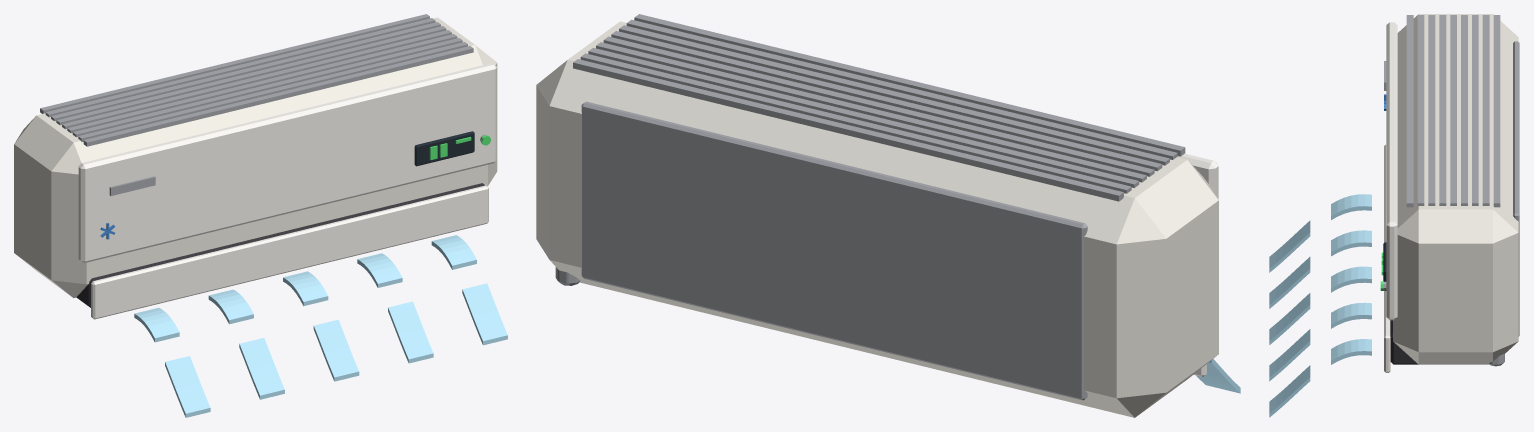
Rendered from AirConditionerModel.fbx.
3 views of the same model, side by side, from view 1: azimuth 30°, elevation 25°; view 2: azimuth 150°, elevation 25°; view 3: azimuth 270°, elevation 25° (orthographic). The views are drawn at different scales.
Visible parts, largest first — view 1: Body, Louver, AirFlow; view 2: Body, AirFlow; view 3: Body, AirFlow, Louver.
Part boxes in pixels (left/top/right/bottom): Body: left=14, top=14, right=497, bottom=307; Louver: left=91, top=185, right=488, bottom=319; AirFlow: left=134, top=235, right=507, bottom=417; Body: left=536, top=14, right=1218, bottom=417; AirFlow: left=1196, top=359, right=1240, bottom=393; Body: left=1383, top=14, right=1519, bottom=366; AirFlow: left=1269, top=194, right=1371, bottom=417; Louver: left=1384, top=144, right=1390, bottom=372.
Size of the model in its own units: 0.9 by 0.4476 by 0.439.
